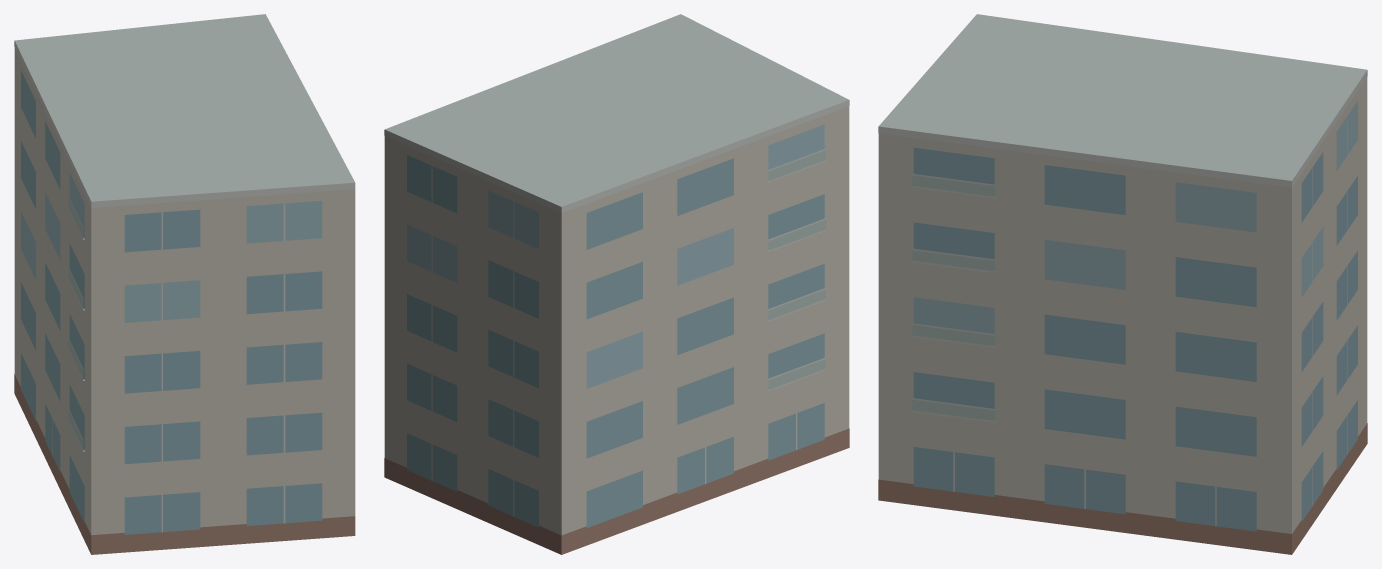
Rendered from survey-upis-32869368.glb.
3 views of the same model, side by side, from view 1: azimuth 30°, elevation 25°; view 2: azimuth 150°, elevation 25°; view 3: azimuth 270°, elevation 25° (orthographic). The views are drawn at different scales.
Visible parts, largest first — view 1: survey-upis-32869368.tmp; view 2: survey-upis-32869368.tmp; view 3: survey-upis-32869368.tmp.
Boxes of the visible parts, box(x1,y1,x2,y2) form: survey-upis-32869368.tmp: box(14, 14, 355, 554); survey-upis-32869368.tmp: box(384, 14, 849, 554); survey-upis-32869368.tmp: box(878, 14, 1367, 554).
Size of the model in its own units: 12.93 by 13.5 by 16.01.
